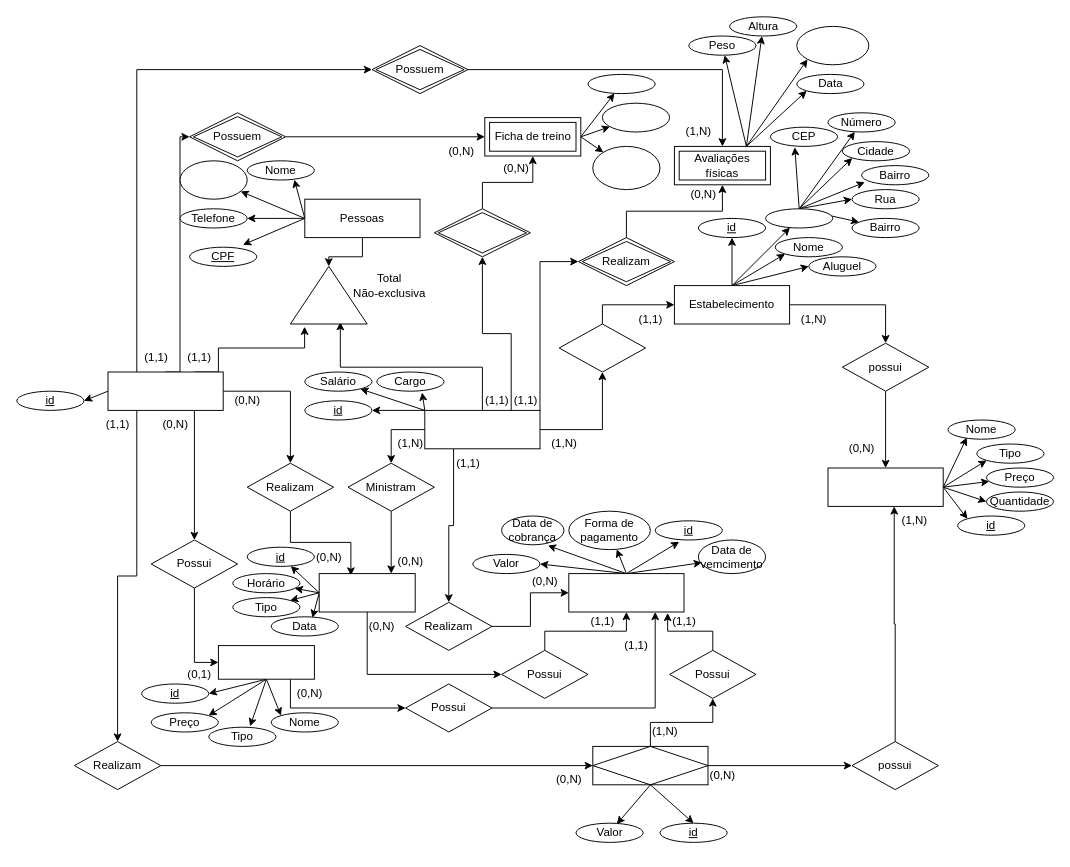
This 1070x867 diagram has some shape labels left out. The box of each missing label's shape, as (x1, y1, x2, y2) in pixels:
Aula: (318, 573, 415, 612)
Clientes: (107, 371, 223, 410)
Cobrança: (568, 573, 684, 612)
Compra: (592, 745, 708, 785)
Criam: (433, 208, 530, 257)
Data de início: (601, 102, 670, 132)
Data de nascimento: (179, 160, 247, 199)
Endereço: (765, 208, 833, 228)
Exercícios: (587, 73, 655, 94)
Funcionários: (424, 409, 540, 449)
Pertencem: (558, 323, 646, 372)
Plano: (217, 645, 314, 679)
Problemas médicos: (796, 25, 869, 65)
Produtos: (827, 467, 943, 506)
Quantidade de dias: (592, 145, 660, 190)
